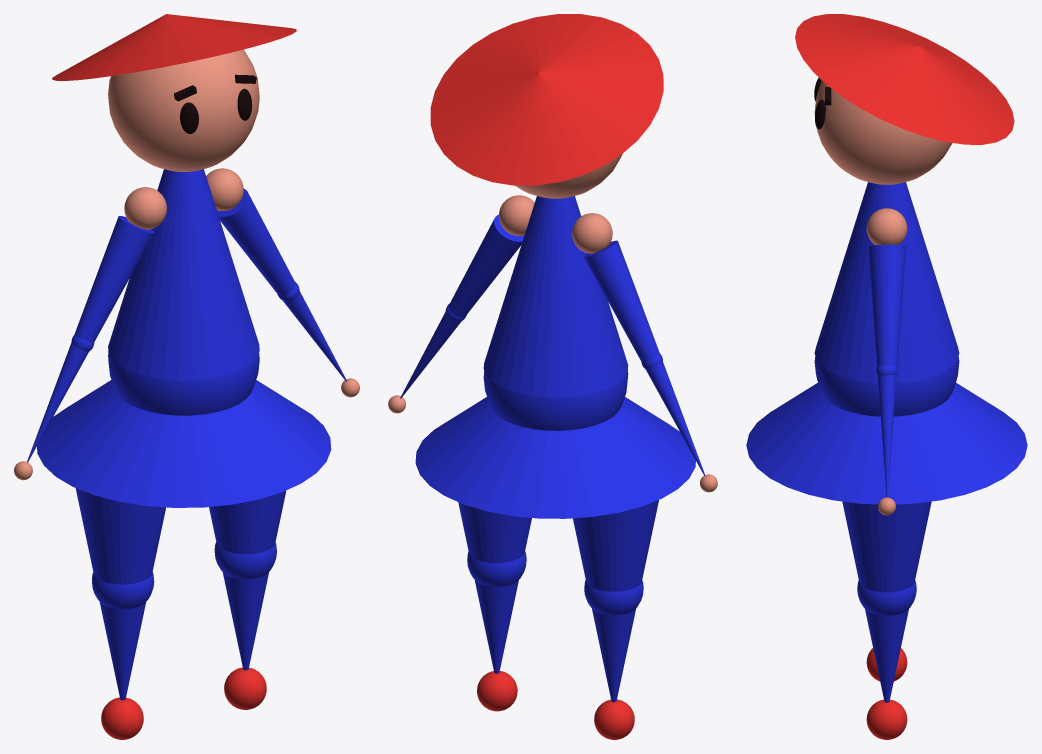
Rendered from playerone_half.glb.
3 renders of one model, left to right at view 1: azimuth 30°, elevation 25°; view 2: azimuth 150°, elevation 25°; view 3: azimuth 270°, elevation 25°, orthographic. The views are drawn at different scales.
Visible parts, largest first — view 1: Sphere.011; view 2: Sphere.011; view 3: Sphere.011.
Part boxes in pixels (left/top/right/bottom): Sphere.011: left=14, top=14, right=359, bottom=739; Sphere.011: left=388, top=14, right=717, bottom=739; Sphere.011: left=746, top=14, right=1027, bottom=739.
Size of the model in its own units: 2.61 by 5.12 by 1.94.
